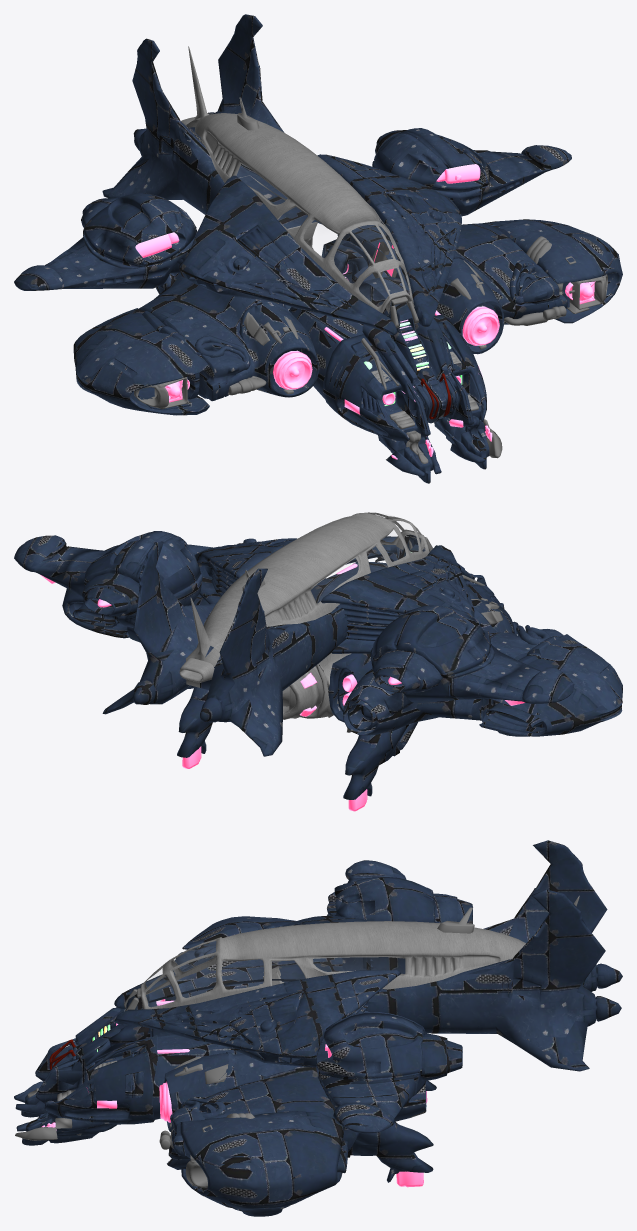
Rendered from ship_alien.glb.
3 views of the same model, one above another, from view 1: azimuth 30°, elevation 25°; view 2: azimuth 150°, elevation 25°; view 3: azimuth 270°, elevation 25° (orthographic). The views are drawn at different scales.
Parts seen in each view (by area): view 1: Alien Spaceship part_001_Blue spaceship wall sci-fi.006_0, Alien Spaceship part_006_Blue spaceship wall sci-fi.009_0, Alien Spaceship part_028_brushed_aluminum_70_77_0, Alien Spaceship part_107_Basic Metal_0, Alien Spaceship part_001_Material.001_0; view 2: Alien Spaceship part_001_Blue spaceship wall sci-fi.006_0, Alien Spaceship part_028_brushed_aluminum_70_77_0, Alien Spaceship part_001_Material.001_0, Alien Spaceship part_006_Blue spaceship wall sci-fi.009_0, Alien Spaceship part_107_Basic Metal_0; view 3: Alien Spaceship part_001_Blue spaceship wall sci-fi.006_0, Alien Spaceship part_028_brushed_aluminum_70_77_0, Alien Spaceship part_006_Blue spaceship wall sci-fi.009_0, Alien Spaceship part_107_Basic Metal_0, Alien Spaceship part_001_Material.001_0.
Boxes of the visible parts, x1,y1,x2,y2 form: Alien Spaceship part_001_Blue spaceship wall sci-fi.006_0: [14, 14, 622, 415]; Alien Spaceship part_006_Blue spaceship wall sci-fi.009_0: [323, 301, 489, 483]; Alien Spaceship part_028_brushed_aluminum_70_77_0: [181, 46, 478, 429]; Alien Spaceship part_107_Basic Metal_0: [134, 97, 607, 463]; Alien Spaceship part_001_Material.001_0: [135, 164, 595, 459]; Alien Spaceship part_001_Blue spaceship wall sci-fi.006_0: [14, 531, 622, 799]; Alien Spaceship part_028_brushed_aluminum_70_77_0: [179, 512, 429, 719]; Alien Spaceship part_001_Material.001_0: [40, 563, 524, 811]; Alien Spaceship part_006_Blue spaceship wall sci-fi.009_0: [353, 534, 518, 634]; Alien Spaceship part_107_Basic Metal_0: [242, 533, 503, 732]; Alien Spaceship part_001_Blue spaceship wall sci-fi.006_0: [114, 840, 622, 1216]; Alien Spaceship part_028_brushed_aluminum_70_77_0: [57, 895, 579, 1101]; Alien Spaceship part_006_Blue spaceship wall sci-fi.009_0: [14, 994, 157, 1145]; Alien Spaceship part_107_Basic Metal_0: [15, 907, 474, 1187]; Alien Spaceship part_001_Material.001_0: [42, 999, 427, 1187].
Size of the model in its own units: 2.83 by 1.36 by 2.68.
Materials: 10 (4 with a texture image).
